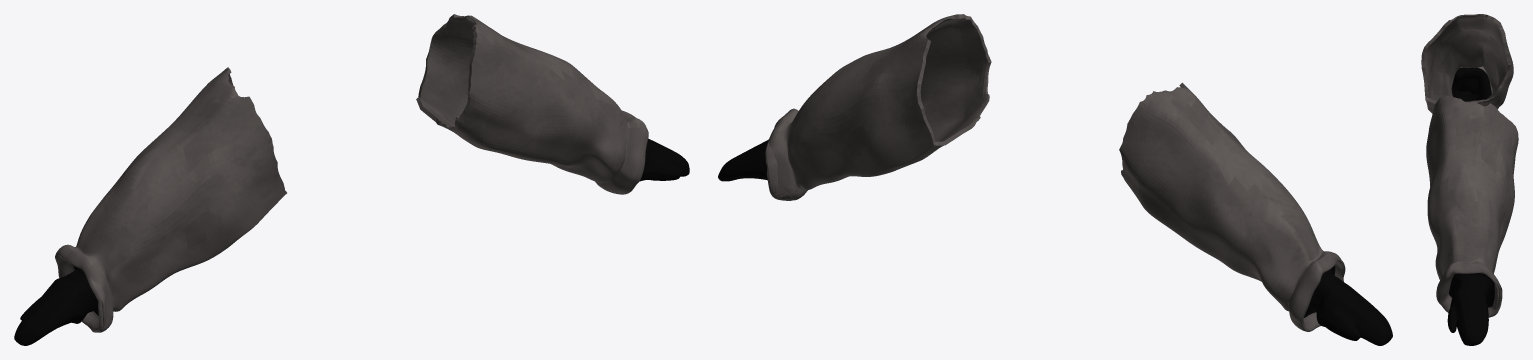
Rendered from player_hand.fbx.
3 views of the same model, side by side, from view 1: azimuth 30°, elevation 25°; view 2: azimuth 150°, elevation 25°; view 3: azimuth 270°, elevation 25° (orthographic). The views are drawn at different scales.
Parts seen in each view (by area): view 1: Sphere.003, Sphere.002; view 2: Sphere.003, Sphere.002; view 3: Sphere.002, Sphere.003.
Boxes of the visible parts, x1=… form: Sphere.003: x1=14, y1=67, x2=286, y2=345; Sphere.002: x1=416, y1=14, x2=689, y2=194; Sphere.003: x1=1119, y1=82, x2=1392, y2=345; Sphere.002: x1=718, y1=14, x2=991, y2=200; Sphere.002: x1=1426, y1=95, x2=1518, y2=345; Sphere.003: x1=1421, y1=14, x2=1513, y2=113.
Size of the model in its own units: 142 by 44.3 by 22.65.
